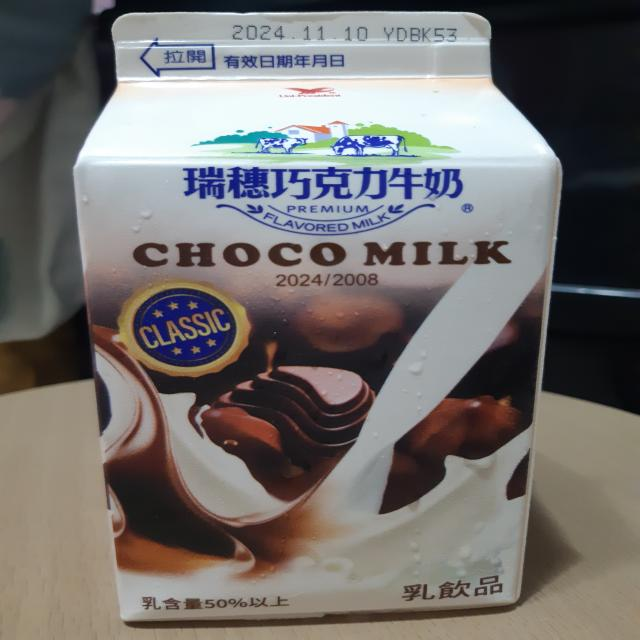RuiSui_ChocoMilk: (68, 6, 556, 632)
